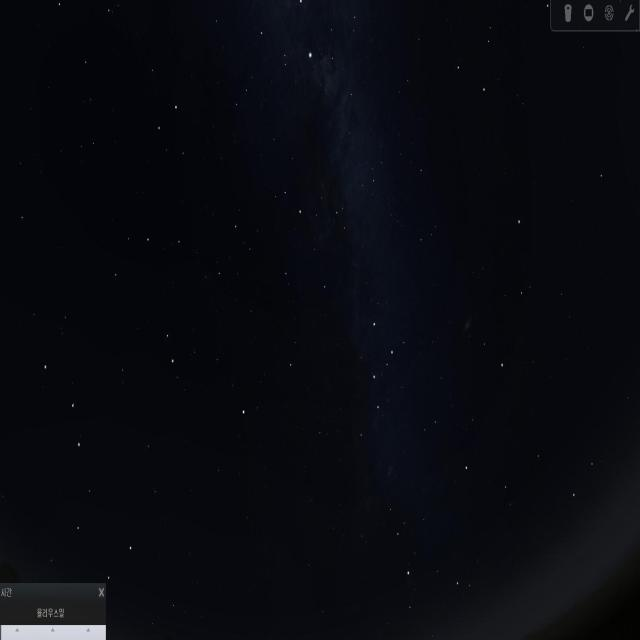cassiopeia: (344, 302, 401, 448)
ursa_major: (40, 347, 139, 585)
